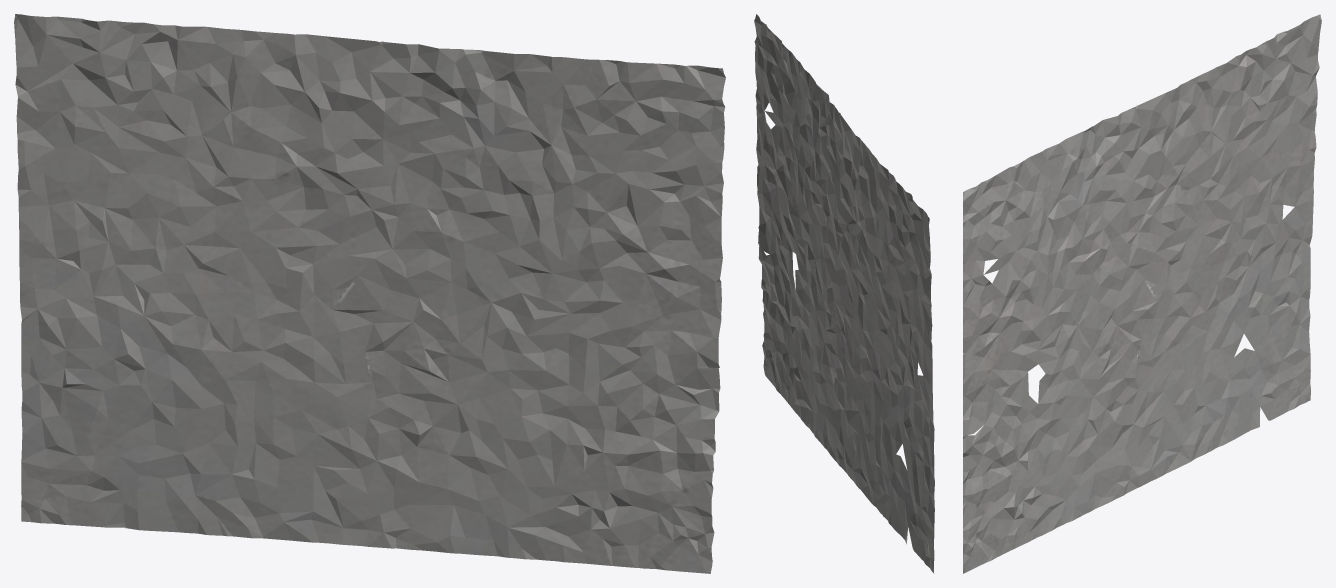
The picture shows the model from 3 angles, left to right: view 1: azimuth 30°, elevation 25°; view 2: azimuth 150°, elevation 25°; view 3: azimuth 270°, elevation 25°; orthographic projection. The views are drawn at different scales.
Size of the model in its own units: 0.8338 by 0.8374 by 0.7049.
Materials: 3 (3 with a texture image).
